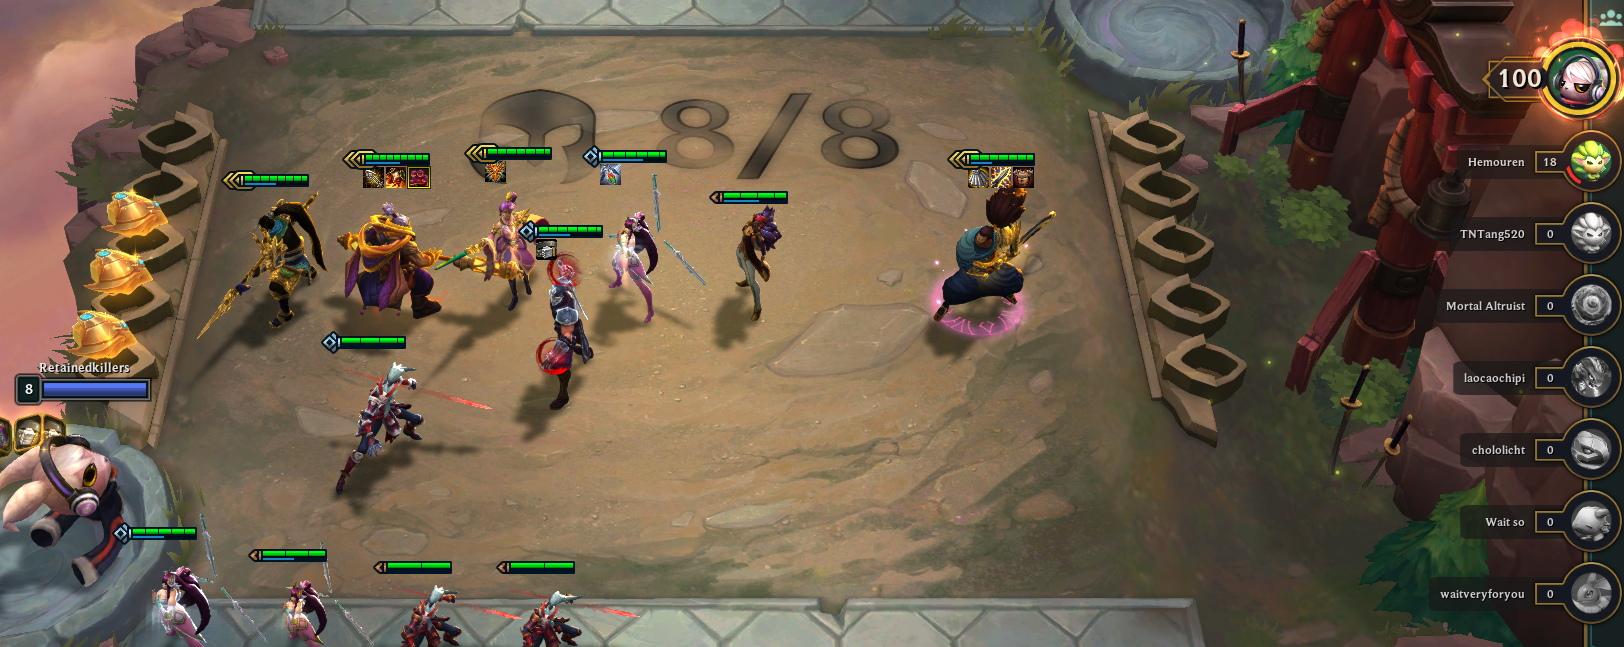1star_sett: (705, 181, 801, 351)
2star_irelia: (580, 144, 706, 351)
2star_kalista: (312, 318, 502, 512)
2star_shen: (505, 216, 610, 438)
3star_fiora: (436, 131, 568, 354)
3star_xinzhao: (183, 151, 334, 377)
3star_yasuo: (918, 144, 1052, 350)
3star_yasuo_chosen: (916, 143, 1053, 351)
item_belt: (531, 233, 561, 265)
item_bramble: (1011, 163, 1038, 190)
item_ie: (358, 161, 389, 192)
item_locket: (479, 155, 512, 188)
item_negatron: (964, 159, 993, 192)
item_redemption: (596, 159, 624, 188)
item_statikk: (986, 161, 1015, 190)
item_sunfire: (381, 161, 412, 192)
item_thief: (404, 161, 434, 193)
